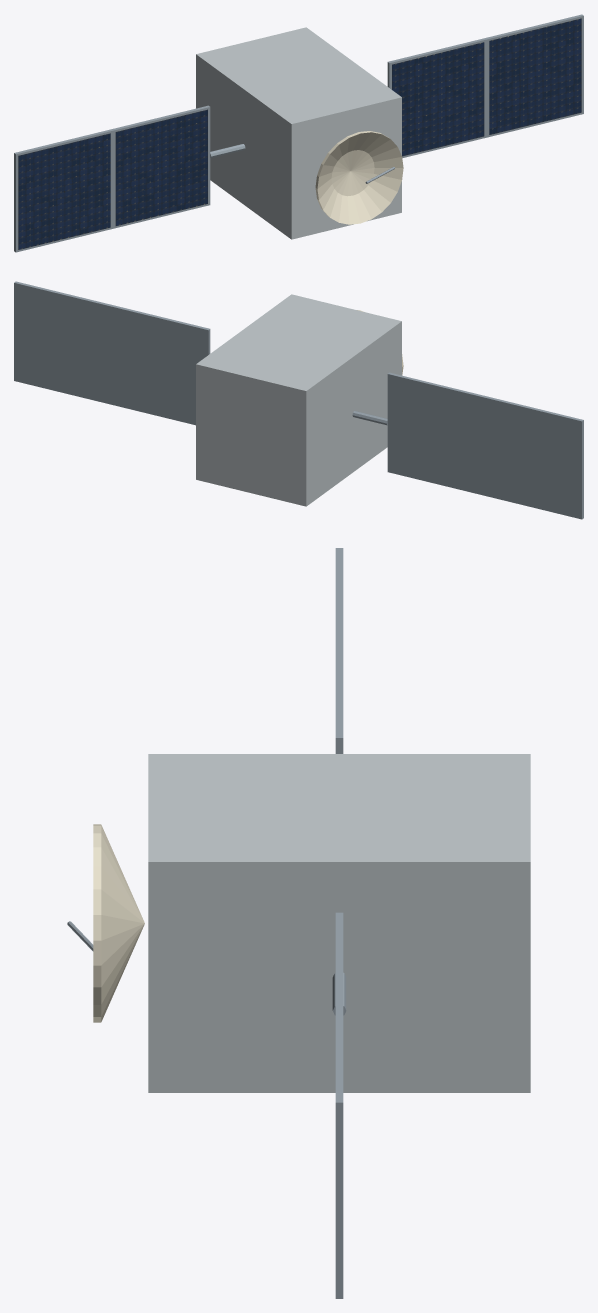
The model's file is ref-gcom-38337.glb.
3 renders of one model, top to bottom at view 1: azimuth 30°, elevation 25°; view 2: azimuth 150°, elevation 25°; view 3: azimuth 270°, elevation 25°, orthographic. The views are drawn at different scales.
Parts seen in each view (by area): view 1: Photovoltaic laminates (×4), Spacecraft body, Reflector dish, Array frame (×4); view 2: Array frame (×4), Spacecraft body; view 3: Spacecraft body, Reflector dish, Array frame (×2).
Boxes of the visible parts, left/top/right/bottom form: Photovoltaic laminates (×4): left=18, top=18, right=581, bottom=249; Spacecraft body: left=196, top=27, right=401, bottom=239; Reflector dish: left=315, top=131, right=403, bottom=224; Array frame (×4): left=14, top=14, right=583, bottom=252; Array frame (×4): left=14, top=281, right=583, bottom=519; Spacecraft body: left=196, top=294, right=401, bottom=506; Spacecraft body: left=148, top=754, right=530, bottom=1092; Reflector dish: left=93, top=824, right=144, bottom=1022; Array frame (×2): left=335, top=643, right=343, bottom=1298.
Bounding box in the file's own units: 17.5 × 3.4 × 6.18.
Materials: 4 (1 with a texture image).
